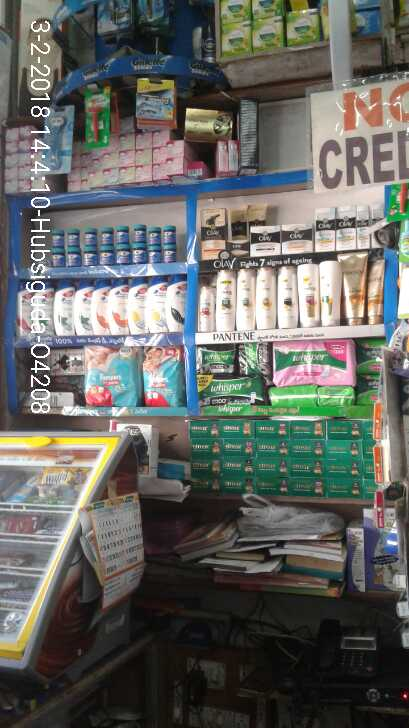vicks: (44, 217, 174, 271)
